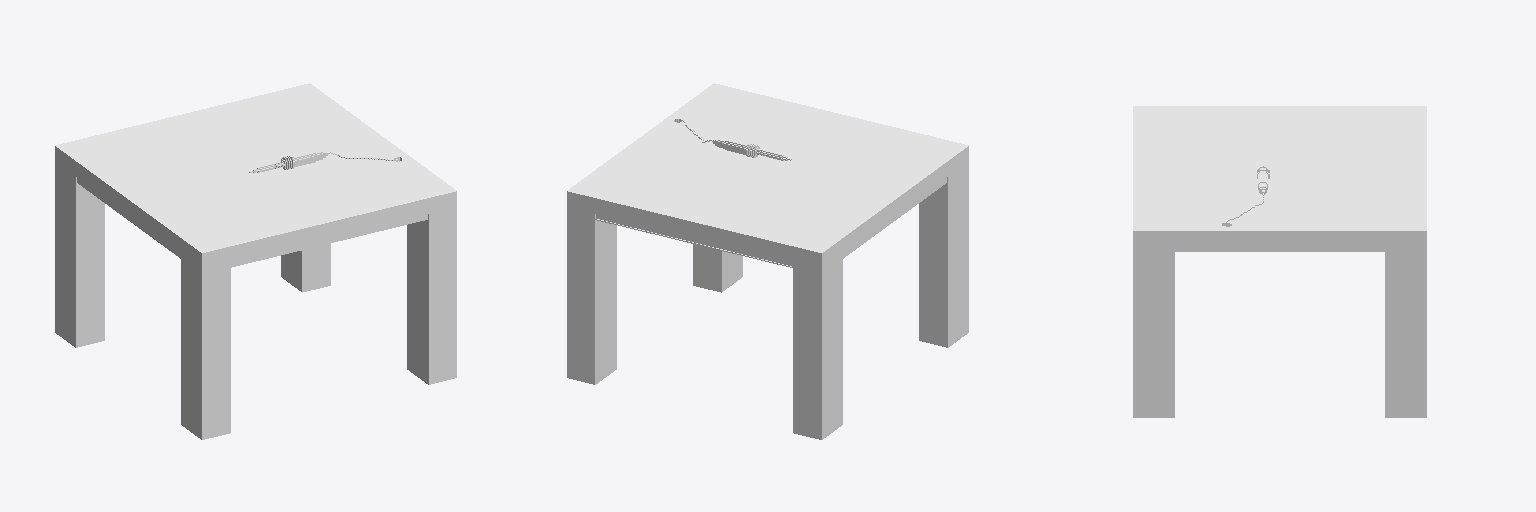
File: FerroDeSolda+Mesa.obj
3 renders of one model, left to right at view 1: azimuth 30°, elevation 25°; view 2: azimuth 150°, elevation 25°; view 3: azimuth 270°, elevation 25°, orthographic.
Parts seen in each view (by area): view 1: object 1; view 2: object 1; view 3: object 1.
Boxes of the visible parts, x1=… form: object 1: x1=55, y1=83, x2=456, y2=439; object 1: x1=567, y1=83, x2=968, y2=439; object 1: x1=1133, y1=106, x2=1426, y2=417.
Bounding box in the file's own units: 25.6 × 19 × 25.6.